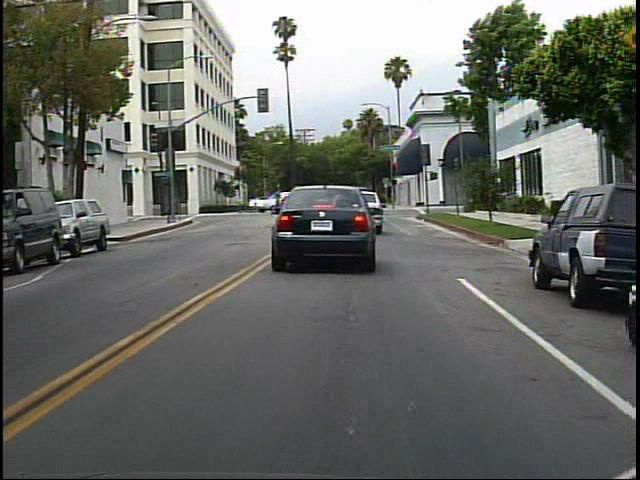person: (270, 186, 296, 222)
